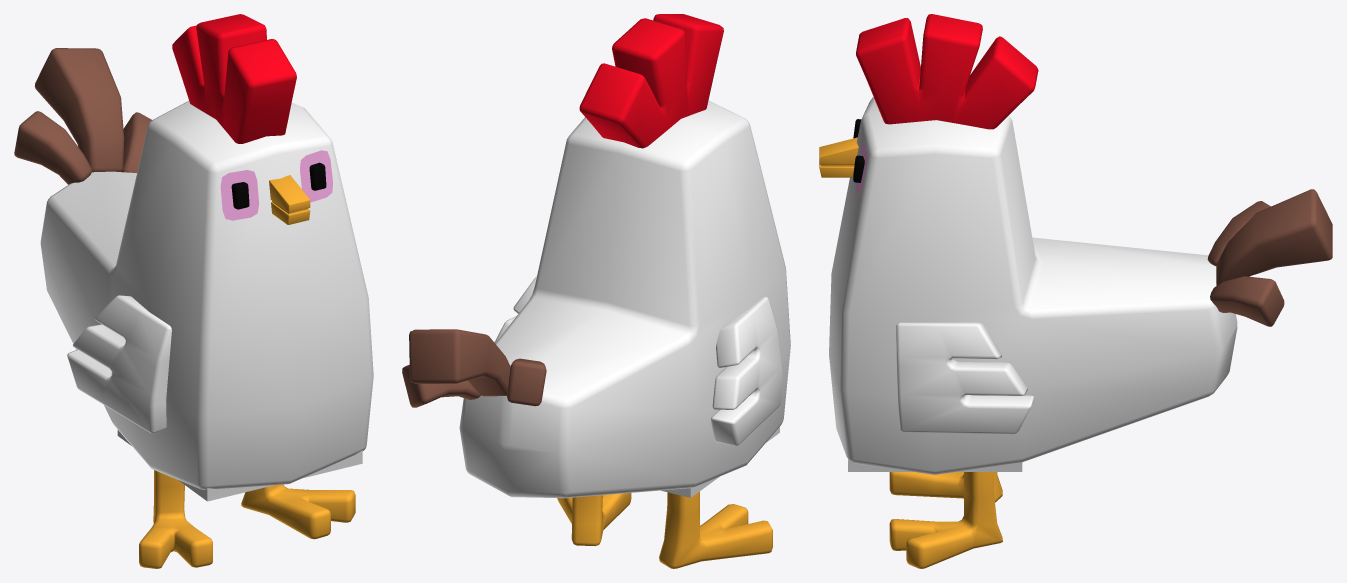
The model's file is galinha.gltf.
3 views of the same model, side by side, from view 1: azimuth 30°, elevation 25°; view 2: azimuth 150°, elevation 25°; view 3: azimuth 270°, elevation 25° (orthographic). The views are drawn at different scales.
Parts seen in each view (by area): view 1: Corpo, Crina, Plane, Pes, Calda, CaldaLateral, Plane.001, Bico, Cube, Olhos; view 2: Corpo, Crina, Plane, Pes, Calda, CaldaLateral; view 3: Corpo, Crina, Plane, Pes, Calda, CaldaLateral, Bico, Cube.
Boxes of the visible parts, bbox=[...] form: Corpo: bbox=[40, 101, 373, 489]; Crina: bbox=[172, 14, 296, 143]; Plane: bbox=[67, 295, 171, 433]; Pes: bbox=[139, 470, 355, 568]; Calda: bbox=[34, 48, 124, 172]; CaldaLateral: bbox=[14, 111, 151, 184]; Plane.001: bbox=[220, 150, 333, 220]; Bico: bbox=[269, 175, 310, 224]; Cube: bbox=[117, 430, 362, 501]; Olhos: bbox=[231, 162, 326, 209]; Corpo: bbox=[459, 100, 790, 498]; Crina: bbox=[579, 14, 723, 148]; Plane: bbox=[494, 276, 782, 445]; Pes: bbox=[557, 491, 772, 568]; Calda: bbox=[409, 329, 510, 396]; CaldaLateral: bbox=[402, 358, 546, 407]; Corpo: bbox=[829, 97, 1237, 474]; Crina: bbox=[856, 14, 1038, 129]; Plane: bbox=[896, 322, 1033, 434]; Pes: bbox=[889, 472, 1002, 568]; Calda: bbox=[1216, 189, 1332, 285]; CaldaLateral: bbox=[1207, 201, 1284, 326]; Bico: bbox=[819, 137, 858, 177]; Cube: bbox=[848, 459, 1022, 471].
Size of the model in its own units: 3.22 by 6.28 by 5.88.
